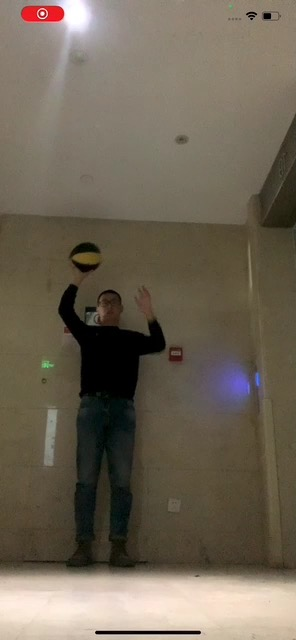ball: (69, 241, 101, 272)
